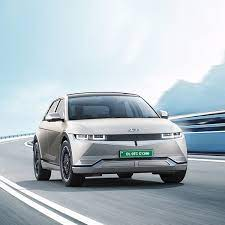Honda Ioniq: (28, 87, 193, 196)
